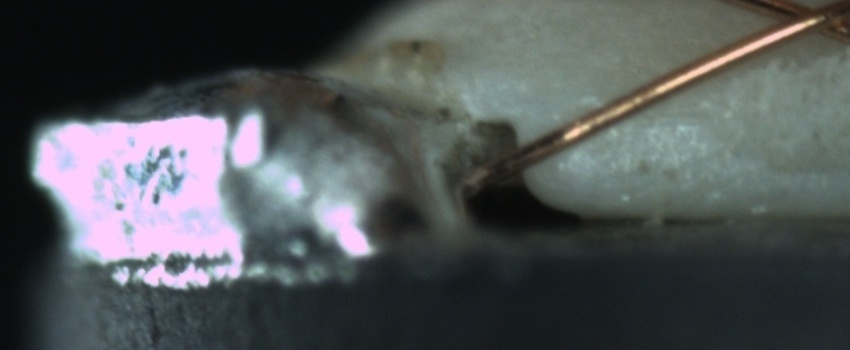CL: (757, 0, 847, 46)
